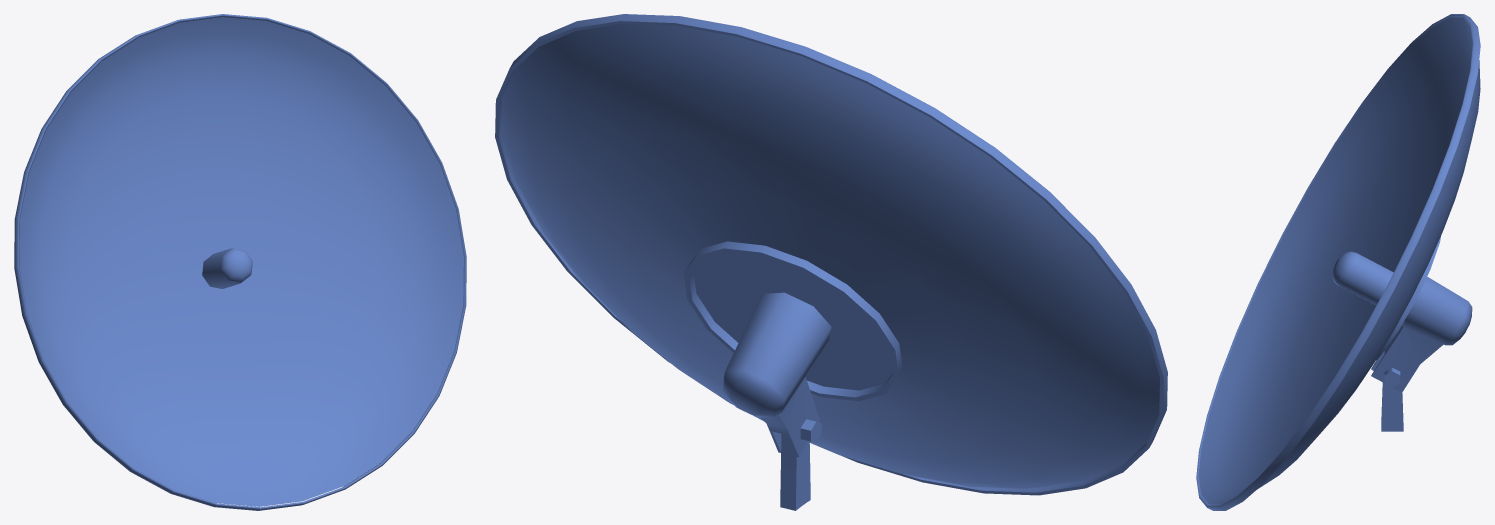
File: dish_my.FBX
The picture shows the model from 3 angles, left to right: view 1: azimuth 30°, elevation 25°; view 2: azimuth 150°, elevation 25°; view 3: azimuth 270°, elevation 25°; orthographic projection. The views are drawn at different scales.
Visible parts, largest first — view 1: Roof_Dish001_reference; view 2: Roof_Dish001_reference; view 3: Roof_Dish001_reference.
Part boxes in pixels (<box>): Roof_Dish001_reference: <box>14,14,466,510</box>; Roof_Dish001_reference: <box>495,14,1167,510</box>; Roof_Dish001_reference: <box>1196,14,1480,510</box>.
Bounding box in the file's own units: 62024 × 54099 × 31698.
